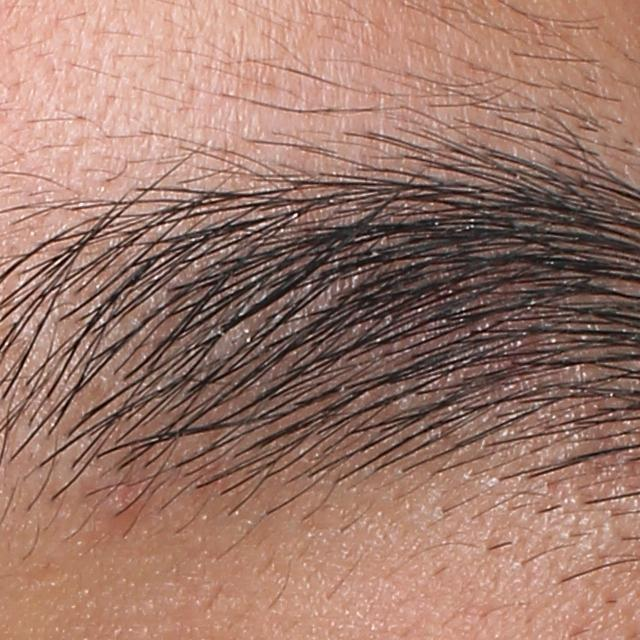papule: (102, 475, 150, 533)
